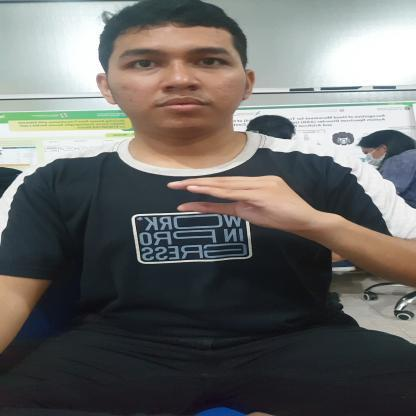Pagi: (166, 172, 322, 234)
